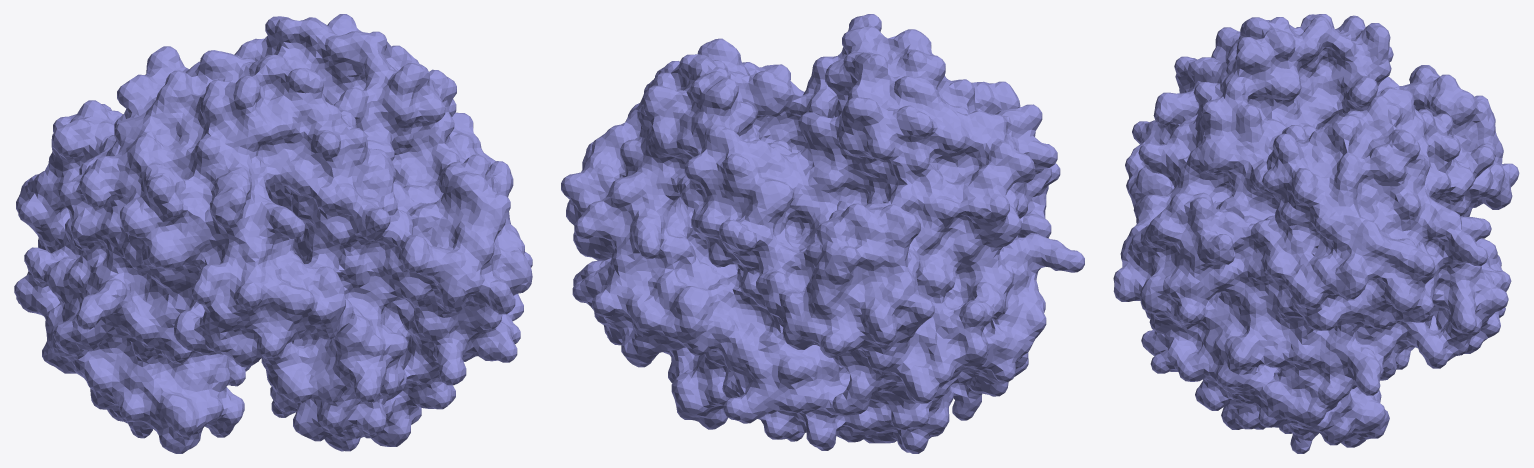
File: 4hhb__surface__b-factor.glb
3 renders of one model, left to right at view 1: azimuth 30°, elevation 25°; view 2: azimuth 150°, elevation 25°; view 3: azimuth 270°, elevation 25°, orthographic. The views are drawn at different scales.
Parts seen in each view (by area): view 1: Renderer Node; view 2: Renderer Node; view 3: Renderer Node.
Boxes of the visible parts, bbox=[...] form: Renderer Node: bbox=[14, 14, 532, 453]; Renderer Node: bbox=[561, 14, 1084, 453]; Renderer Node: bbox=[1113, 14, 1519, 453].
Bounding box in the file's own units: 70.09 × 60.28 × 60.37.
